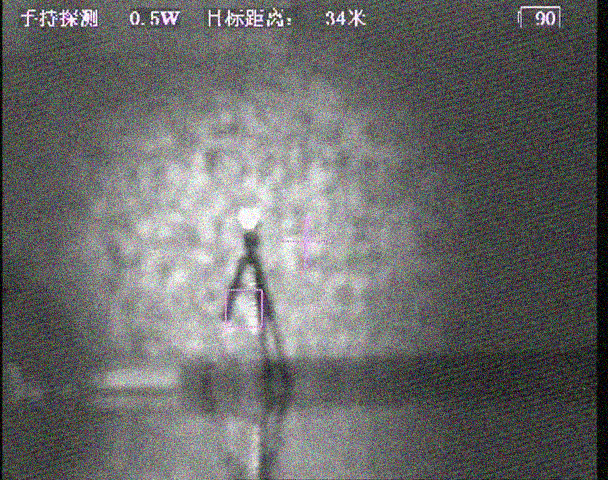my: (236, 204, 262, 231)
